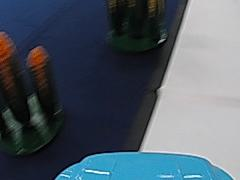corn: (1, 32, 62, 151), (108, 0, 169, 48)
